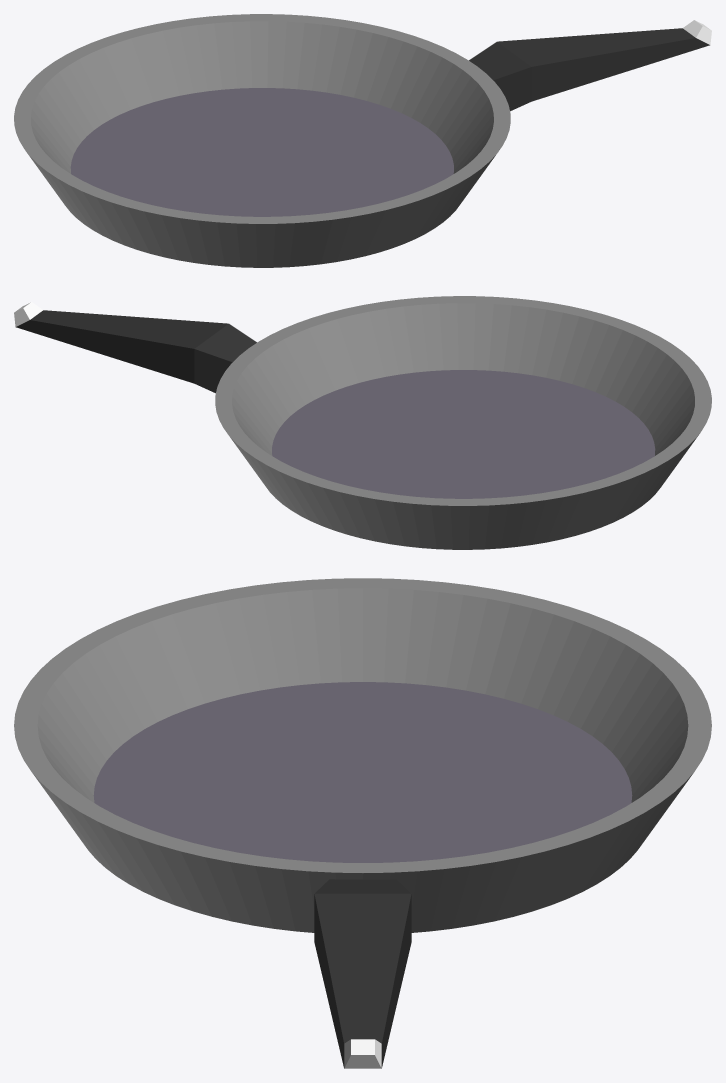
File: Res01_Pan1.fbx
3 views of the same model, one above another, from view 1: azimuth 30°, elevation 25°; view 2: azimuth 150°, elevation 25°; view 3: azimuth 270°, elevation 25° (orthographic). The views are drawn at different scales.
Parts seen in each view (by area): view 1: Res01_Pan1; view 2: Res01_Pan1; view 3: Res01_Pan1.
Part boxes in pixels (bbox=[...]): Res01_Pan1: bbox=[14, 14, 711, 267]; Res01_Pan1: bbox=[14, 296, 711, 549]; Res01_Pan1: bbox=[14, 578, 711, 1068].
Size of the model in its own units: 171 by 16.12 by 111.
